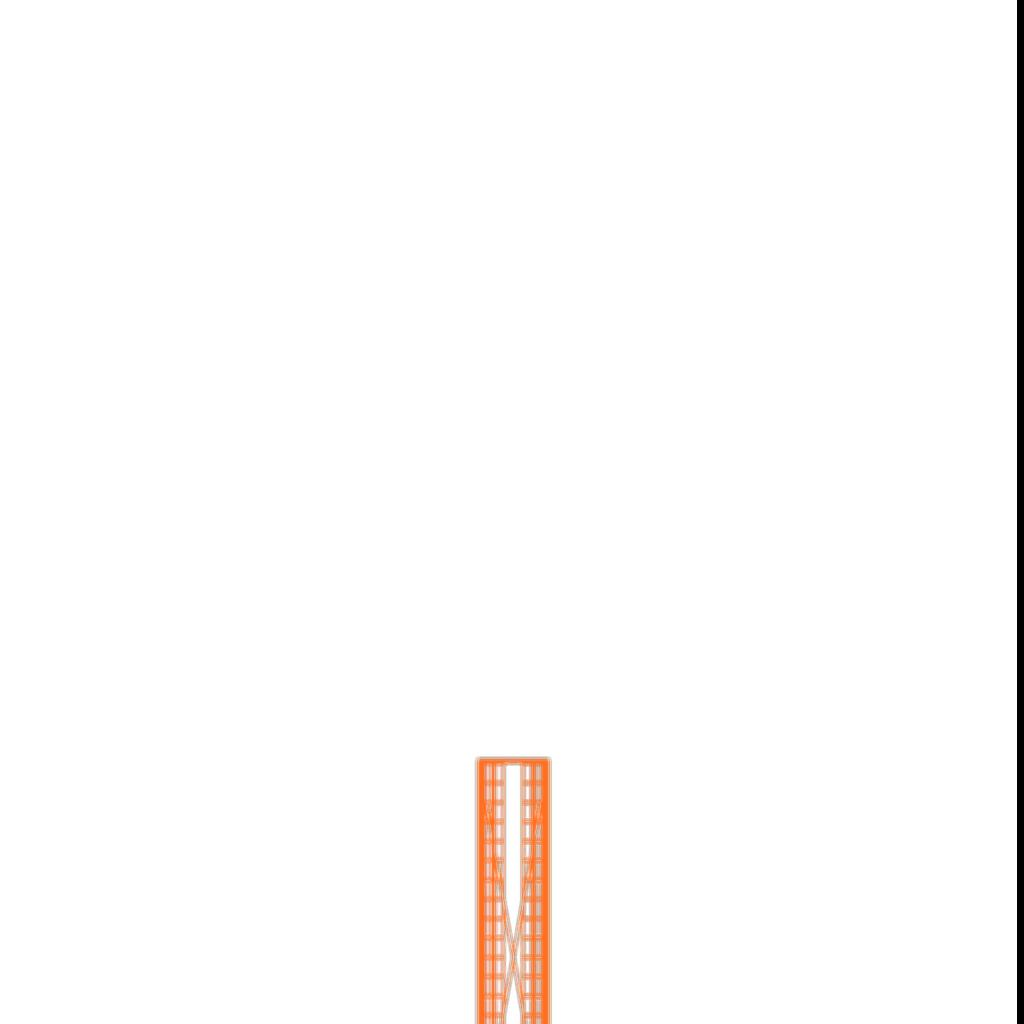Buero_Pendelleuchten_LED: (467, 750, 597, 1024)
